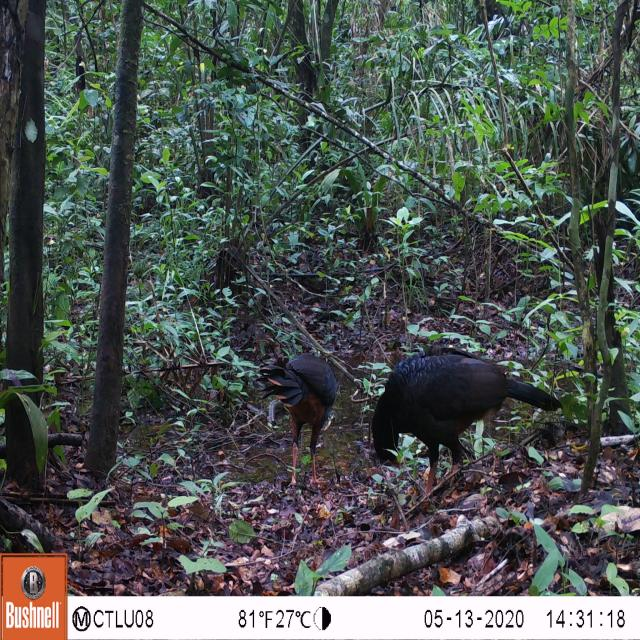Salvins Curassow: (367, 332, 567, 500), (246, 329, 350, 504)
